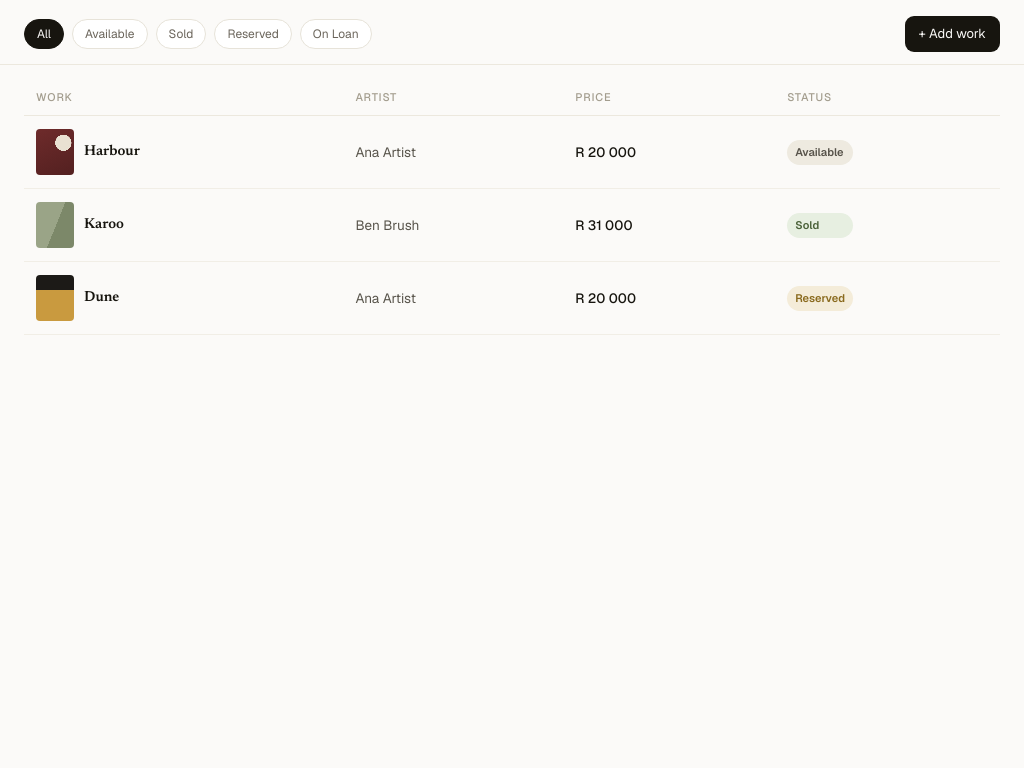
Test: CataloguePanel adding › takes the work back out and says why when saving fails
Click the button "+ Add work": [952, 34] box x1=905 y1=16 x2=1000 y2=52
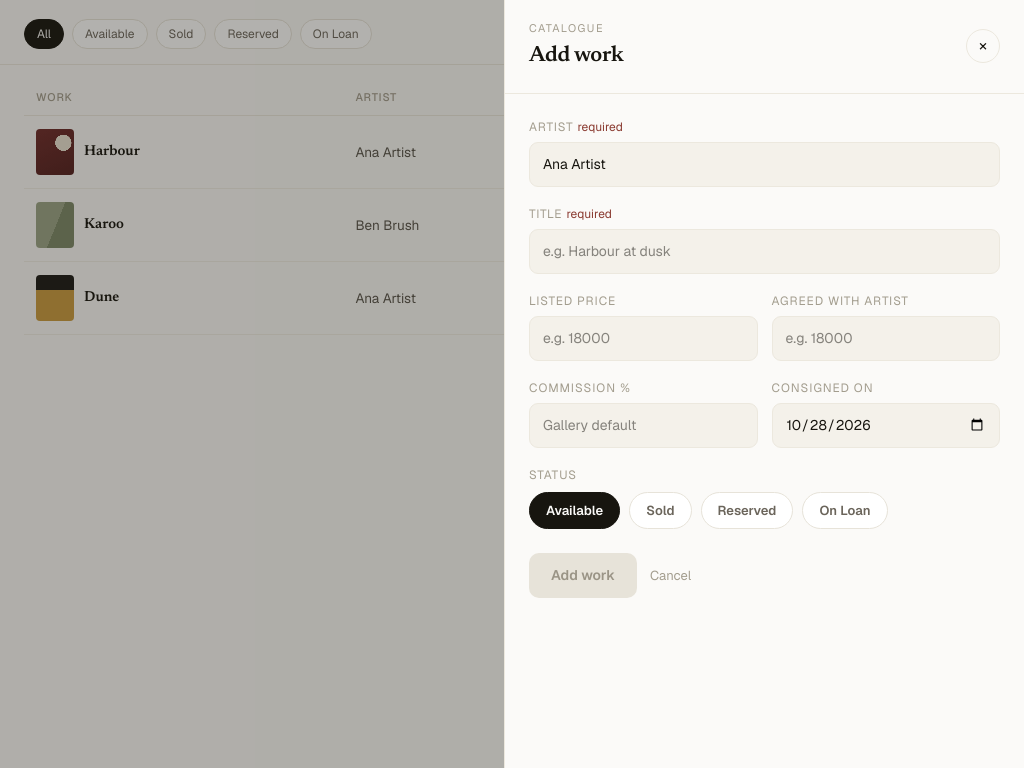
In the field labelled "Title required": [764, 251] box x1=529 y1=228 x2=1000 y2=274, type "Dusk"
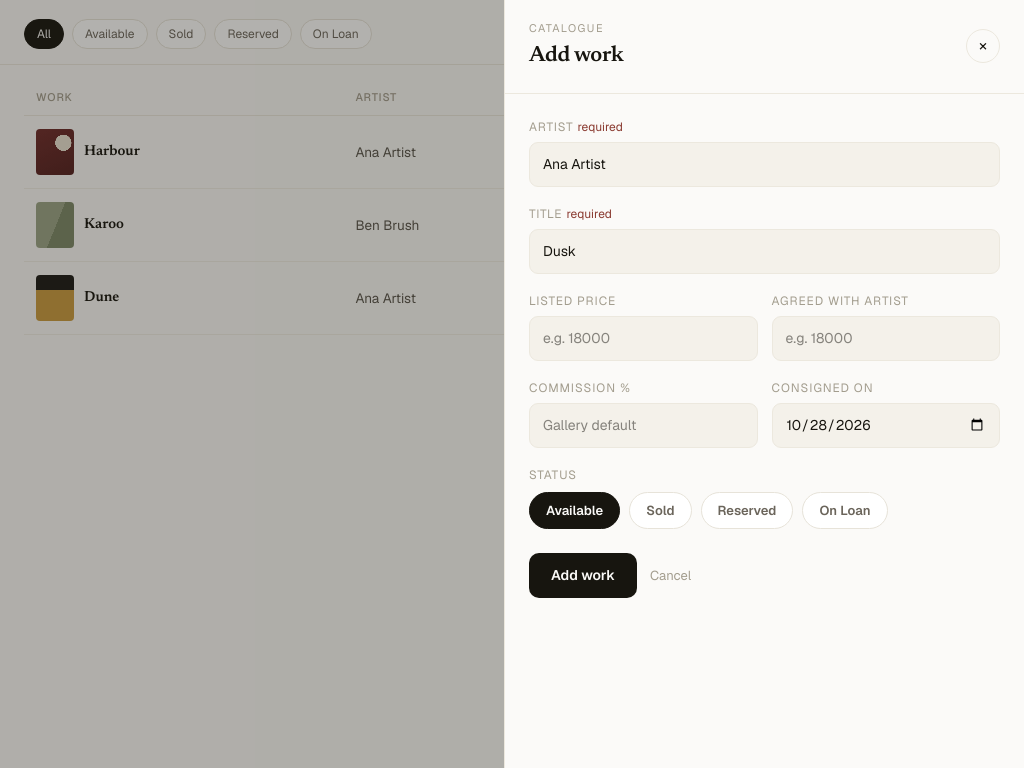
In the field labelled "Listed price": [643, 338] box x1=529 y1=316 x2=758 y2=360, type "12000"
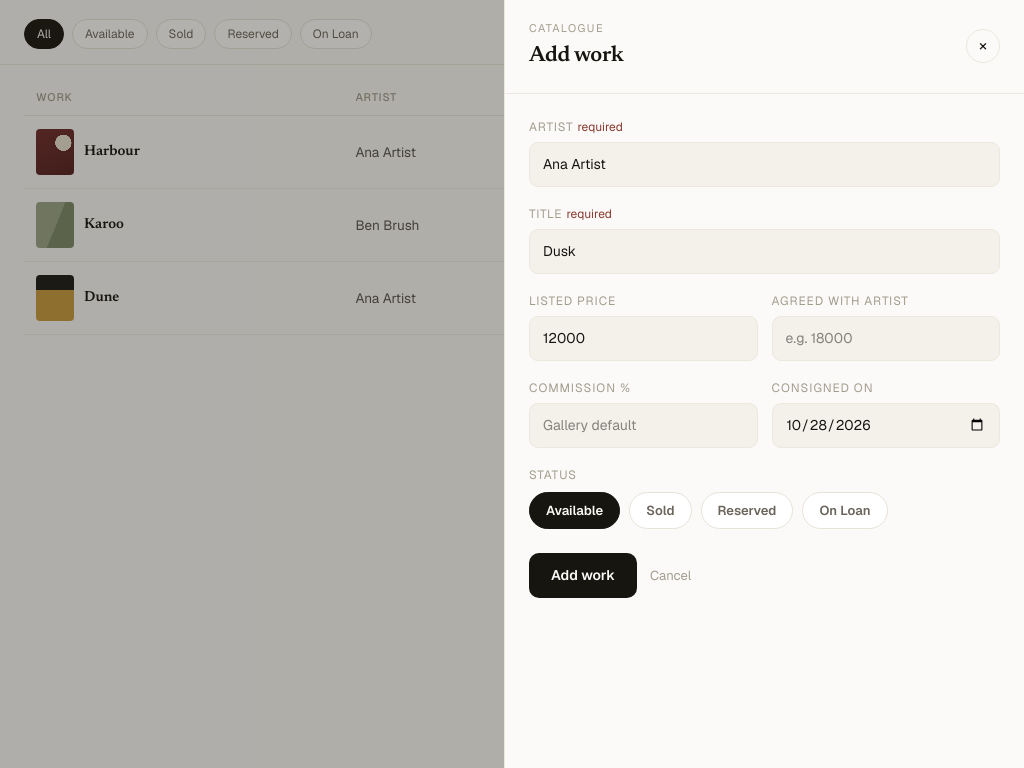
Click the button "Add work": [583, 576] box x1=529 y1=553 x2=637 y2=598
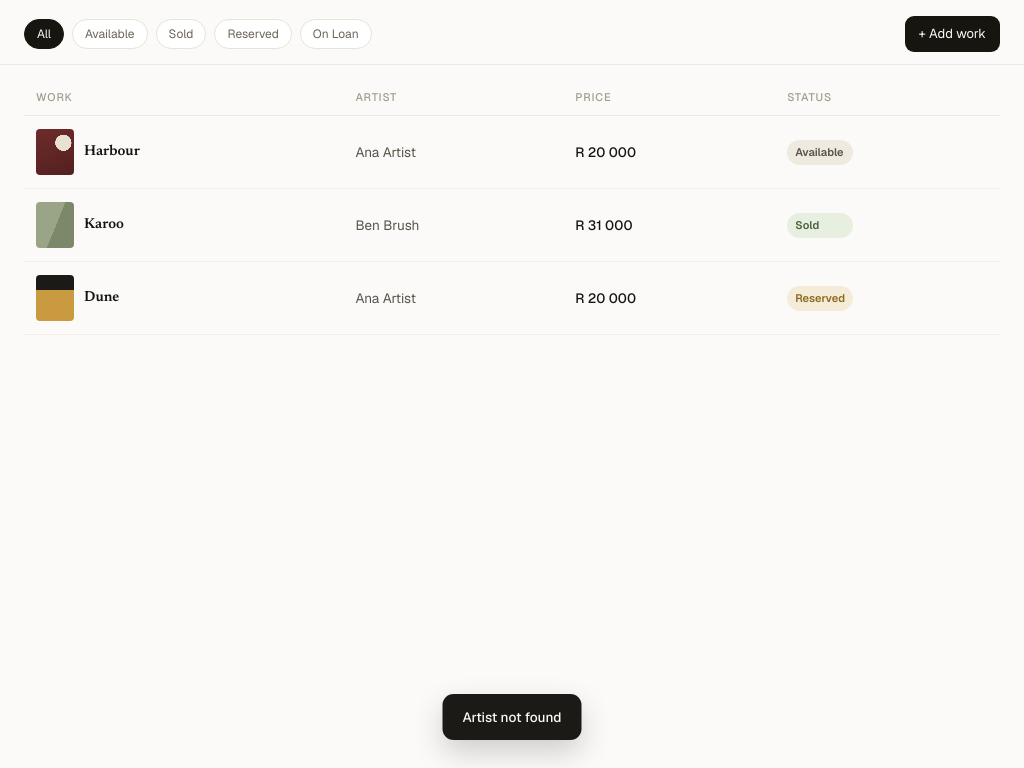
Expected: the text "Dusk" is not shown
Now the text "Artist not found" is shown, box x1=442 y1=694 x2=582 y2=740
